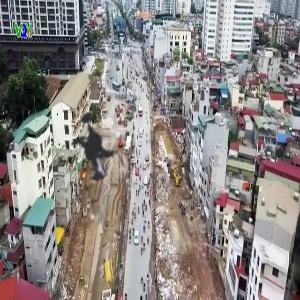drone: (21, 83, 159, 221)
